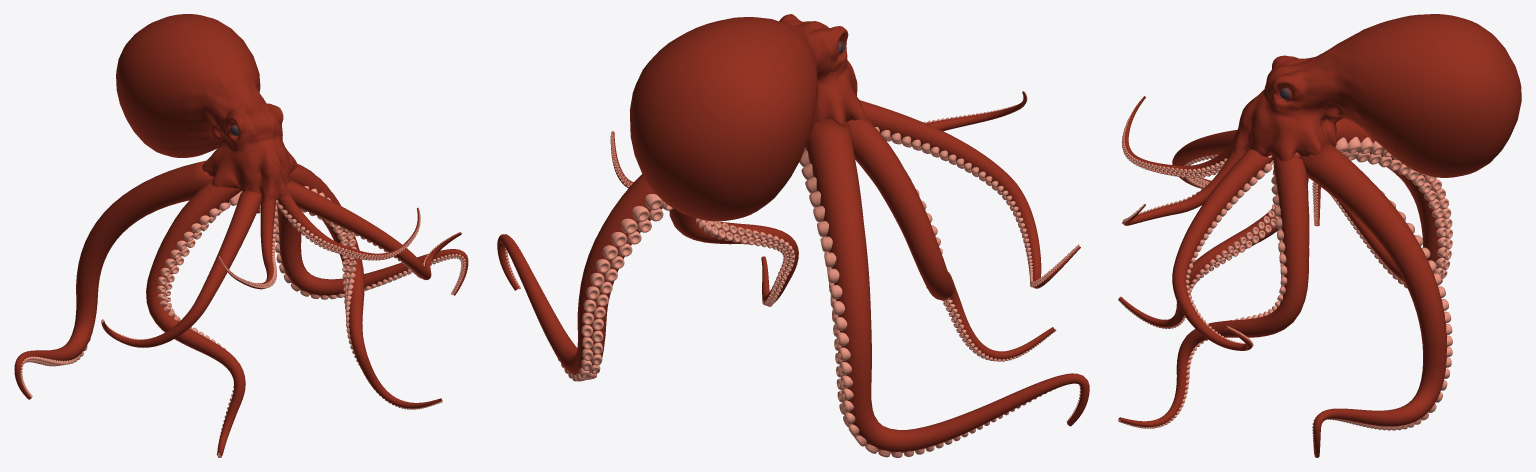
Rendered from octopus.glb.
3 views of the same model, side by side, from view 1: azimuth 30°, elevation 25°; view 2: azimuth 150°, elevation 25°; view 3: azimuth 270°, elevation 25° (orthographic). The views are drawn at different scales.
Parts seen in each view (by area): view 1: Sphere, Body001, Body002, Body003, Suckers002, Body004, Suckers001, Suckers004; view 2: Sphere, Body001, Body002, Suckers001, Body003, Suckers002, Suckers003, Body004; view 3: Sphere, Body001, Body002, Body003, Suckers001, Suckers002, Body004, Suckers003, Suckers004.
Boxes of the visible parts, left/top/right/bottom form: Sphere: left=116, top=14, right=297, bottom=213; Body001: left=14, top=160, right=468, bottom=399; Body002: left=146, top=164, right=442, bottom=455; Body003: left=101, top=180, right=461, bottom=347; Suckers002: left=157, top=186, right=442, bottom=457; Body004: left=219, top=195, right=419, bottom=289; Suckers001: left=20, top=205, right=465, bottom=397; Suckers004: left=218, top=199, right=420, bottom=288; Sphere: left=629, top=14, right=866, bottom=221; Body001: left=497, top=119, right=1089, bottom=452; Body002: left=669, top=118, right=1055, bottom=359; Suckers001: left=505, top=147, right=1080, bottom=457; Body003: left=610, top=100, right=1080, bottom=288; Suckers002: left=696, top=178, right=1056, bottom=361; Suckers003: left=610, top=127, right=1079, bottom=287; Body004: left=857, top=91, right=1026, bottom=131; Sphere: left=1233, top=14, right=1521, bottom=177; Body001: left=1294, top=118, right=1447, bottom=457; Body002: left=1118, top=155, right=1309, bottom=427; Body003: left=1172, top=129, right=1273, bottom=350; Suckers001: left=1296, top=137, right=1452, bottom=454; Suckers002: left=1118, top=169, right=1287, bottom=428; Body004: left=1123, top=96, right=1246, bottom=225; Suckers003: left=1184, top=154, right=1273, bottom=346; Suckers004: left=1121, top=96, right=1227, bottom=223.
Bounding box in the file's own units: 22.23 × 14.96 × 15.39.
